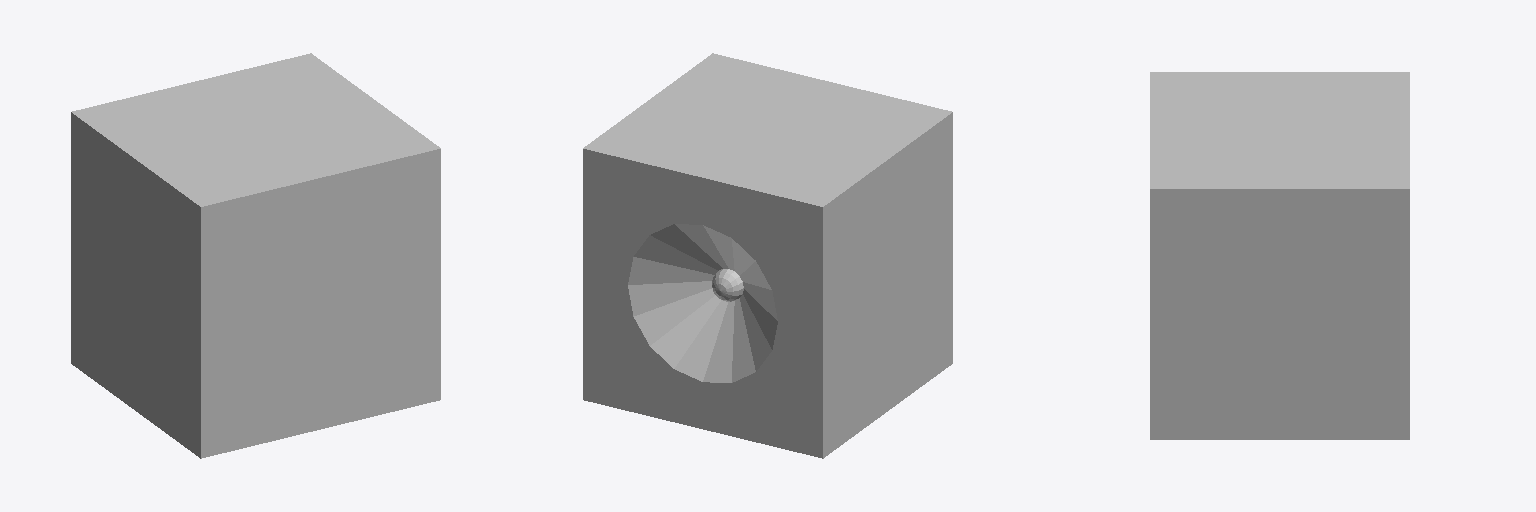
File: homedecor_speaker_large_open.obj
3 views of the same model, side by side, from view 1: azimuth 30°, elevation 25°; view 2: azimuth 150°, elevation 25°; view 3: azimuth 270°, elevation 25° (orthographic).
Visible parts, largest first — view 1: Cube; view 2: Cube; view 3: Cube.
Boxes of the visible parts, box(x1,y1,x2,y2) form: Cube: box(71, 53, 440, 458); Cube: box(583, 53, 952, 458); Cube: box(1150, 72, 1409, 439).
Bounding box in the file's own units: 1 × 1 × 0.9375.